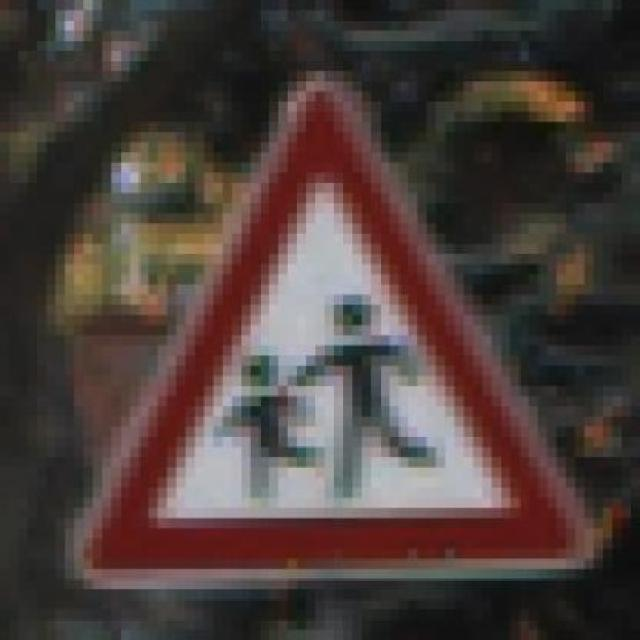Beware of children: (55, 61, 603, 590)
